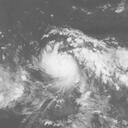cyclone: (39, 49, 88, 94)
